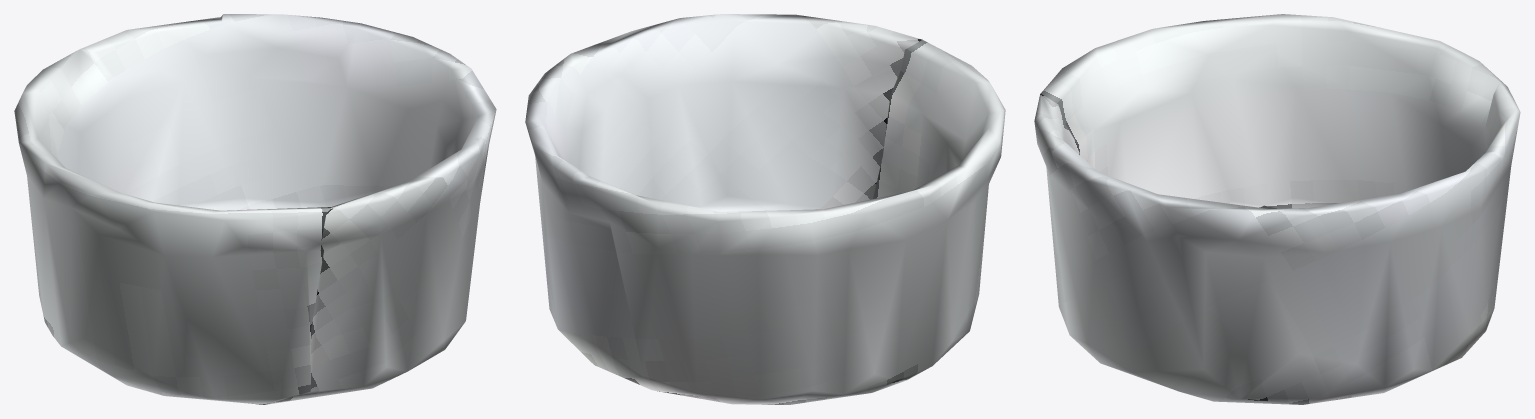
Rendered from BIA_Porcelain_Ramekin_With_Glazed_Rim_35_45_oz_cup-low.glb.
3 views of the same model, side by side, from view 1: azimuth 30°, elevation 25°; view 2: azimuth 150°, elevation 25°; view 3: azimuth 270°, elevation 25° (orthographic).
Visible parts, largest first — view 1: BIA_Porcelain_Ramekin_With_Glazed_Rim_35_45_oz_cup; view 2: BIA_Porcelain_Ramekin_With_Glazed_Rim_35_45_oz_cup; view 3: BIA_Porcelain_Ramekin_With_Glazed_Rim_35_45_oz_cup.
Part boxes in pixels (<box>): BIA_Porcelain_Ramekin_With_Glazed_Rim_35_45_oz_cup: <box>14,14,496,404</box>; BIA_Porcelain_Ramekin_With_Glazed_Rim_35_45_oz_cup: <box>525,14,1005,404</box>; BIA_Porcelain_Ramekin_With_Glazed_Rim_35_45_oz_cup: <box>1034,14,1520,404</box>.
Size of the model in its own units: 0.088 by 0.0431 by 0.0884.
Materials: 1 (1 with a texture image).
